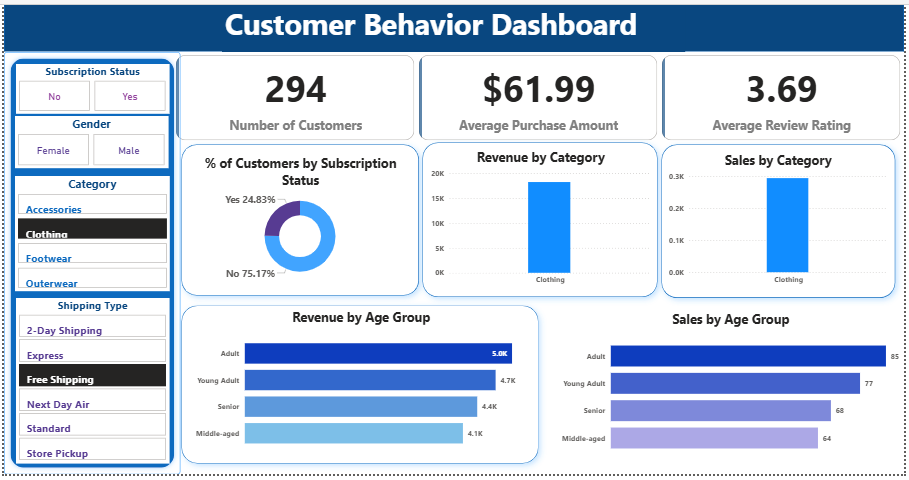

Layout of this report page (visuals, bound fields, positions):
{"tool":"powerbi","page":{"name":"Page 1","canvas":[1500,820],"ordinal":0},"visuals":[{"type":"cardVisual","fields":{"Data":["customer.Number of Customers","customer.Average Purchase Amount","customer.Average Review Rating"]},"box":[282,116,1218,152],"z":0},{"type":"shape","box":[0,0,1500,116],"z":1000},{"type":"textbox","box":[363,31.5,772.2,85.2],"z":2000},{"type":"shape","box":[282,256,424,280],"z":3000},{"type":"donutChart","title":"% of Customers by Subscription Status","fields":{"Category":["customer.subscription_status"],"Y":["CountNonNull(customer.customer_id)"]},"box":[308,276,370,238],"z":4000},{"type":"shape","box":[684,254,420,286],"z":5000},{"type":"shape","box":[1082,256,418,284],"z":6000},{"type":"clusteredColumnChart","title":"Revenue by Category","fields":{"Y":["Sum(customer.purchase_amount)"],"Category":["customer.category"]},"box":[706,276,376,238],"z":7000},{"type":"clusteredColumnChart","title":"Sales by Category","fields":{"Y":["CountNonNull(customer.customer_id)"],"Category":["customer.category"]},"box":[1104,282,374,232],"z":8000},{"type":"shape","box":[0,116.7,294.4,703.7],"z":9000},{"type":"advancedSlicerVisual","title":"Subscription Status","fields":{"Values":["customer.subscription_status"]},"box":[20.4,137,255.6,83.3],"z":10000},{"type":"advancedSlicerVisual","title":"Gender","fields":{"Values":["customer.gender"]},"box":[18.5,224.1,255.6,87],"z":11000},{"type":"advancedSlicerVisual","title":"Category","fields":{"Values":["customer.category"]},"box":[18.5,324.1,257.4,190.7],"z":12000},{"type":"advancedSlicerVisual","title":"Shipping Type","fields":{"Values":["customer.shipping_type"]},"box":[20.4,525.9,255.6,275.9],"z":13000},{"type":"clusteredBarChart","title":"Sales by Age Group","fields":{"Y":["CountNonNull(customer.customer_id)"],"Category":["customer.age_group"]},"box":[924.1,546.3,575.9,255.6],"z":14000},{"type":"shape","box":[281.7,525,623.3,291.7],"z":15000},{"type":"clusteredBarChart","title":"Revenue by Age Group","fields":{"Y":["Sum(customer.purchase_amount)"],"Category":["customer.age_group"]},"box":[314,544,564,250],"z":16000}]}

Visuals, with their boxes in screenshot pixels (x1, y1, x2, y2):
cardVisual - customer.Number of Customers x customer.Average Purchase Amount: box(169, 51, 899, 142)
shape: box(0, 0, 899, 51)
textbox: box(217, 0, 680, 51)
shape: box(169, 134, 423, 302)
"% of Customers by Subscription Status" donutChart: box(185, 146, 406, 289)
shape: box(410, 133, 661, 305)
shape: box(648, 134, 899, 305)
"Revenue by Category" clusteredColumnChart: box(423, 146, 648, 289)
"Sales by Category" clusteredColumnChart: box(661, 150, 886, 289)
shape: box(0, 51, 176, 473)
"Subscription Status" advancedSlicerVisual: box(12, 63, 165, 113)
"Gender" advancedSlicerVisual: box(11, 115, 164, 167)
"Category" advancedSlicerVisual: box(11, 175, 165, 290)
"Shipping Type" advancedSlicerVisual: box(12, 296, 165, 461)
"Sales by Age Group" clusteredBarChart: box(554, 308, 899, 462)
shape: box(169, 296, 542, 470)
"Revenue by Age Group" clusteredBarChart: box(188, 307, 526, 457)
